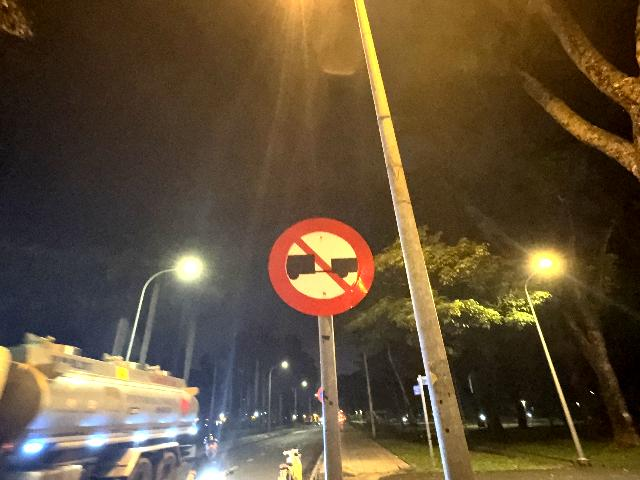cam-xe-somi-romooc: (267, 216, 375, 317)
